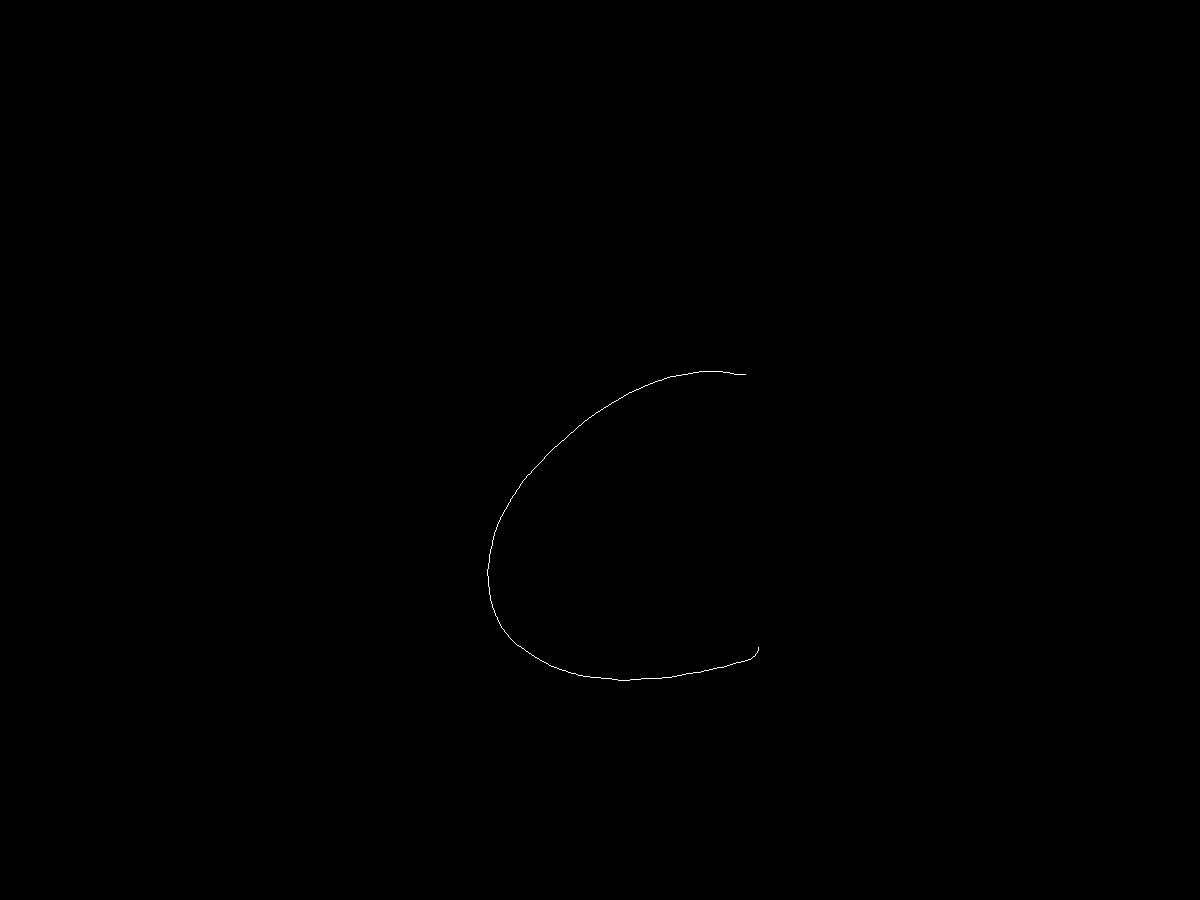dian1: (735, 364, 754, 383)
dian2: (751, 634, 775, 660)
